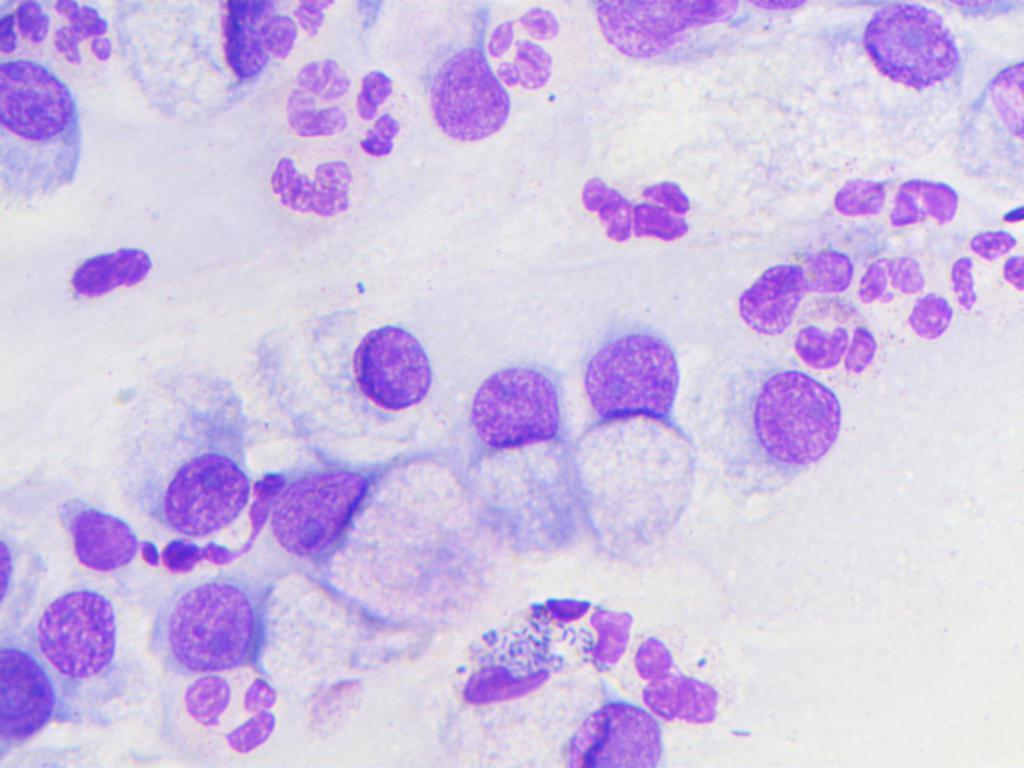artifact: (136, 532, 268, 572), (248, 471, 281, 532)
epithelial: (0, 58, 93, 204), (147, 577, 267, 674), (414, 44, 509, 153), (21, 575, 118, 681), (61, 488, 136, 574), (1, 643, 57, 749)
goblet_cell: (271, 449, 470, 625), (572, 322, 706, 568), (456, 360, 572, 555), (717, 362, 847, 522), (813, 5, 961, 143), (117, 375, 249, 527), (291, 315, 437, 434), (564, 697, 670, 768)
neutrophil: (437, 593, 640, 717), (633, 612, 742, 736), (166, 664, 300, 762), (826, 159, 979, 240), (727, 249, 853, 334), (787, 290, 898, 384), (339, 62, 423, 184), (861, 245, 958, 350), (269, 50, 355, 164), (262, 148, 376, 231), (938, 227, 1024, 327), (482, 11, 569, 94), (212, 1, 299, 83), (67, 243, 167, 313), (634, 158, 707, 251), (570, 162, 633, 254), (49, 0, 124, 68), (0, 0, 48, 57)
